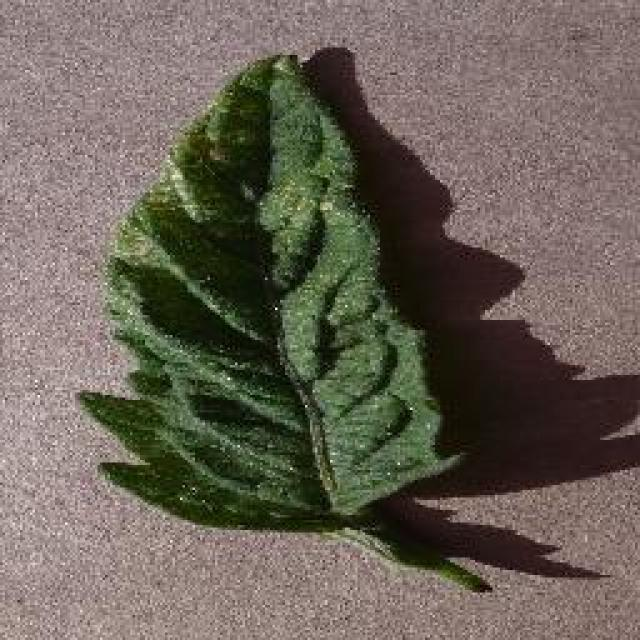Tomato mosaic virus leaf: (76, 50, 469, 538)
